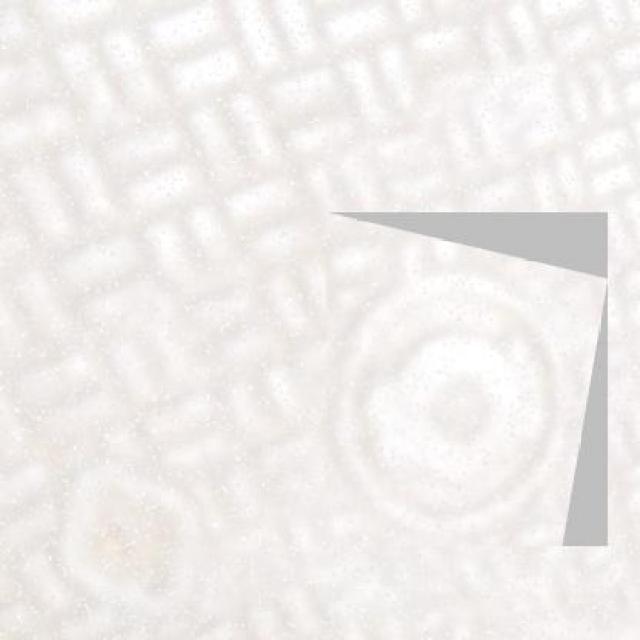Manhole: (326, 212, 608, 546)
